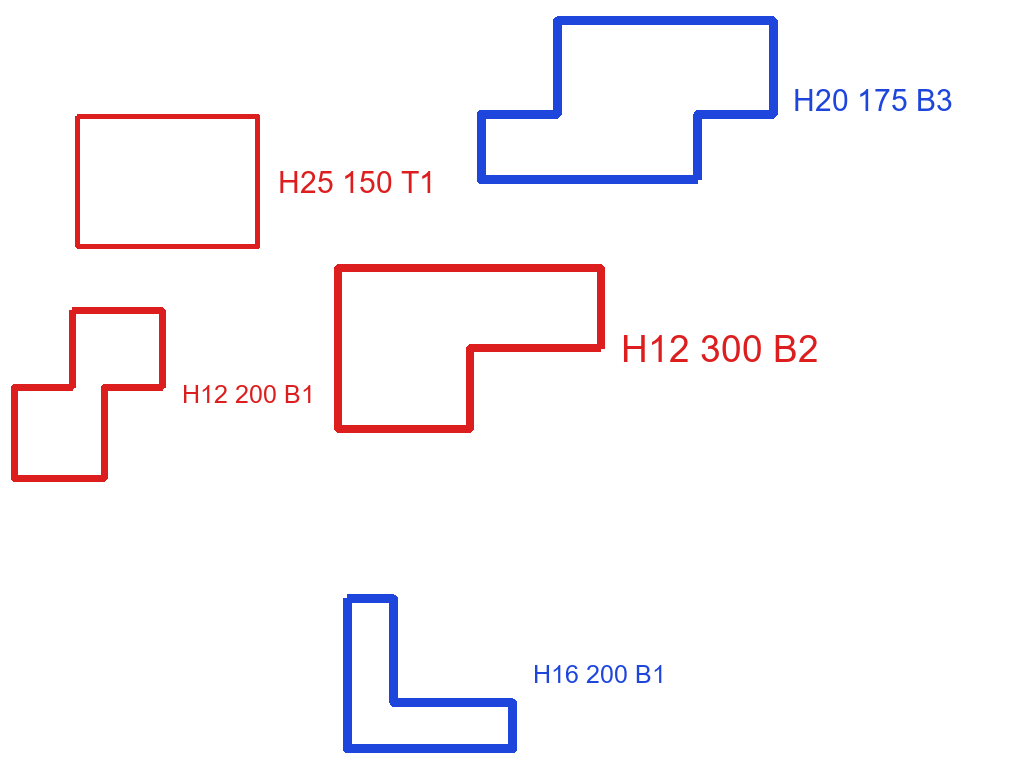shape: (475, 14, 780, 186), (333, 262, 607, 435), (341, 592, 519, 755), (9, 305, 168, 484), (73, 112, 262, 251)
text: (619, 333, 821, 364), (791, 87, 955, 113), (276, 169, 438, 195), (531, 663, 668, 685), (180, 383, 317, 405)
